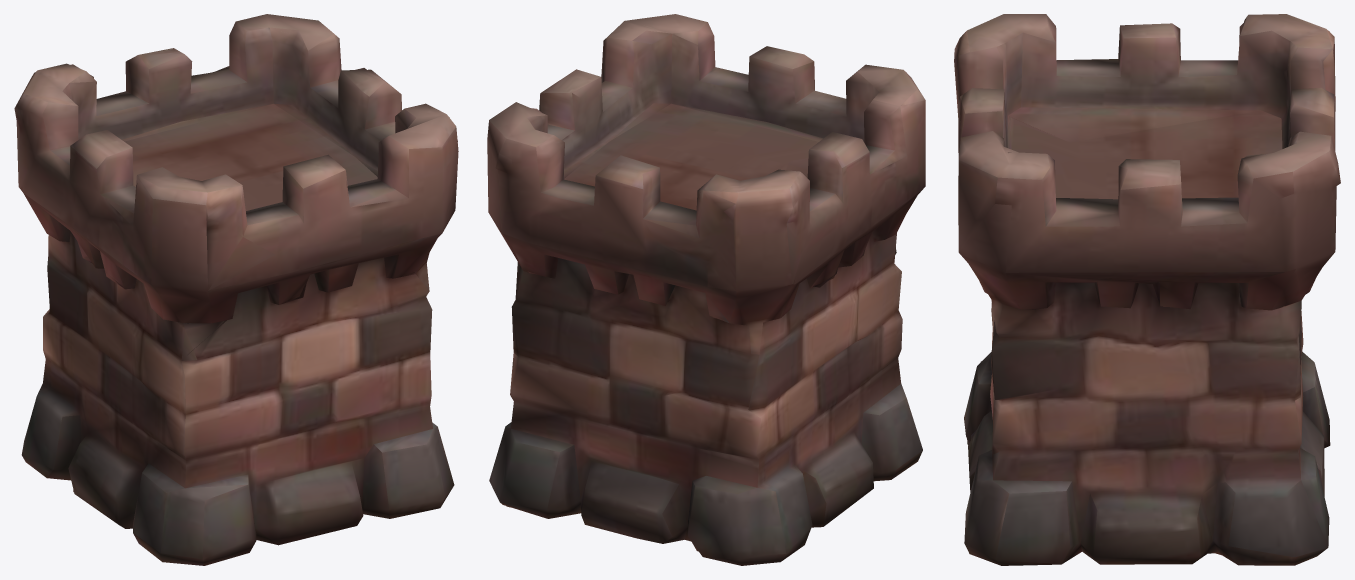
The model's file is x-wall-stone-corner.glb.
3 renders of one model, left to right at view 1: azimuth 30°, elevation 25°; view 2: azimuth 150°, elevation 25°; view 3: azimuth 270°, elevation 25°, orthographic. The views are drawn at different scales.
Visible parts, largest first — view 1: geometry_0; view 2: geometry_0; view 3: geometry_0.
Part boxes in pixels (<box>): geometry_0: <box>14,14,458,565</box>; geometry_0: <box>487,14,925,565</box>; geometry_0: <box>954,14,1340,565</box>.
Bounding box in the file's own units: 0.8634 × 1 × 0.8712.
Materials: 1 (1 with a texture image).
